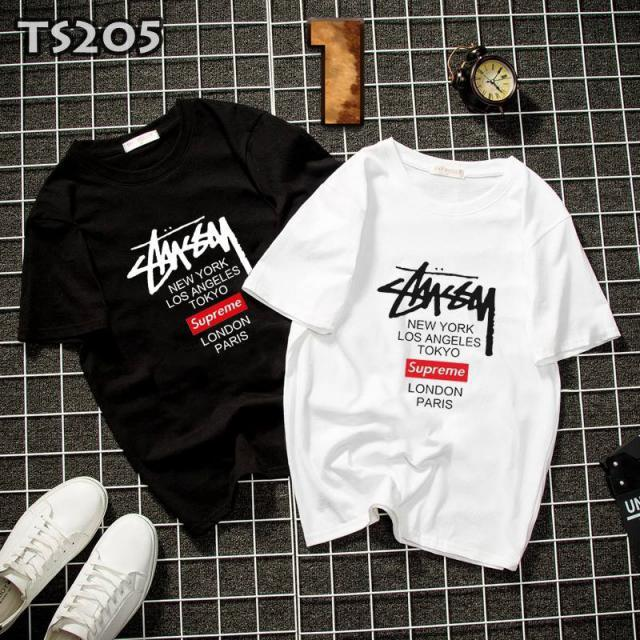Shirt: (242, 132, 625, 578), (15, 93, 380, 544)
